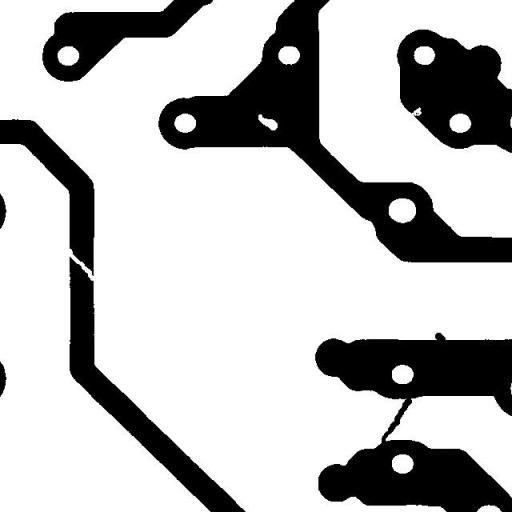mousebite: (400, 99, 429, 126)
open: (58, 240, 102, 288)
pin-hole: (250, 106, 285, 138)
short: (374, 390, 419, 451)
spur: (427, 325, 453, 349)
